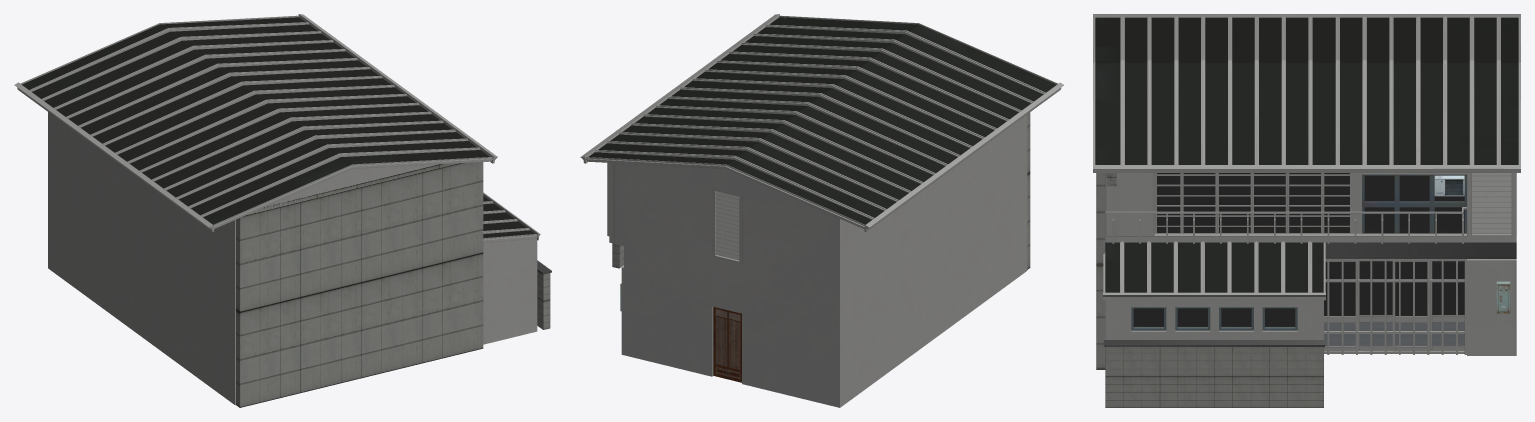
Rendered from residence-transformed.glb.
The picture shows the model from 3 angles, left to right: view 1: azimuth 30°, elevation 25°; view 2: azimuth 150°, elevation 25°; view 3: azimuth 270°, elevation 25°; orthographic projection. The views are drawn at different scales.
Parts seen in each view (by area): view 1: JapaneseResidentialHome_03; view 2: JapaneseResidentialHome_03; view 3: JapaneseResidentialHome_03.
Part boxes in pixels (x1,y1,x2,y2): JapaneseResidentialHome_03: (14, 14, 551, 407); JapaneseResidentialHome_03: (580, 14, 1063, 407); JapaneseResidentialHome_03: (1093, 14, 1520, 407).
Bounding box in the file's own units: 11.8 × 7.08 × 11.45.
Materials: 1 (1 with a texture image).
